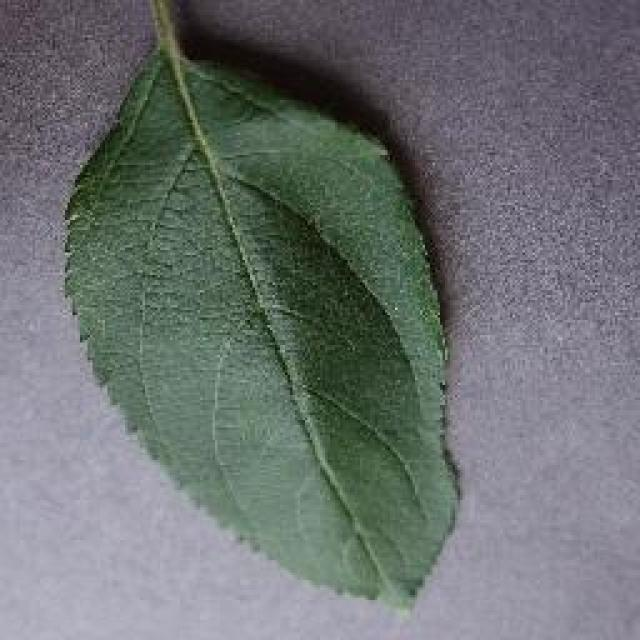apple healthy: (57, 0, 465, 615)
